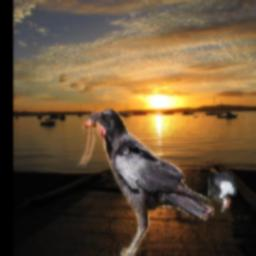Crow: (74, 103, 213, 256)
Woodpecker: (207, 173, 236, 214)
